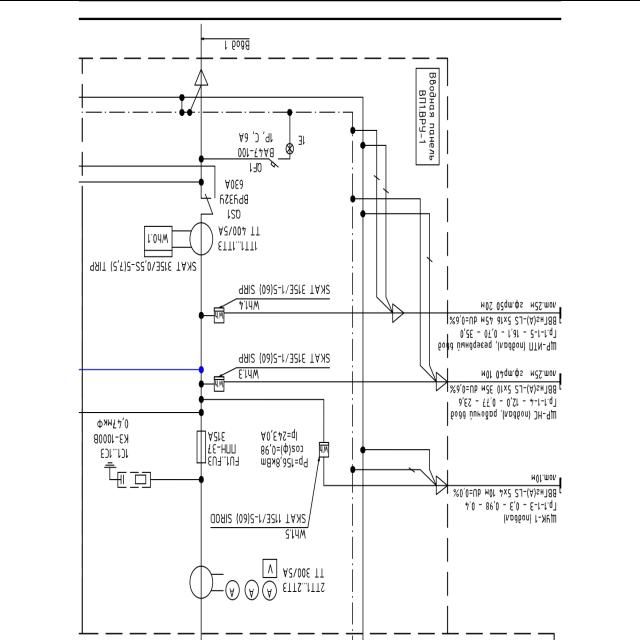-: (258, 427, 308, 469), (87, 258, 197, 274), (238, 348, 332, 364), (208, 510, 308, 524), (238, 282, 330, 294), (237, 130, 274, 156), (219, 177, 249, 205), (217, 220, 259, 238), (206, 428, 236, 453), (282, 565, 326, 579), (418, 88, 428, 146)
FU: (196, 428, 206, 463)
HL: (286, 142, 296, 154)
PA: (243, 578, 260, 602), (262, 578, 278, 602), (225, 577, 241, 601)
PV: (261, 555, 279, 578)
QF: (268, 156, 280, 168)
TT: (188, 563, 224, 599), (188, 218, 214, 256)
WH: (143, 224, 174, 258), (212, 304, 226, 324), (318, 440, 330, 459), (213, 374, 226, 391)
switch: (200, 192, 216, 215)
